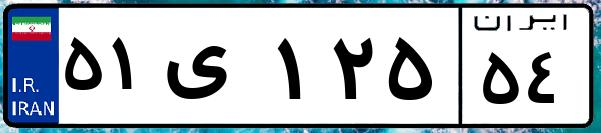1: (270, 28, 330, 110), (110, 28, 158, 98)
2: (330, 28, 385, 110)
4: (525, 38, 570, 115)
5: (385, 28, 445, 110), (57, 26, 110, 100), (475, 38, 525, 113)
ی: (158, 20, 270, 120)
